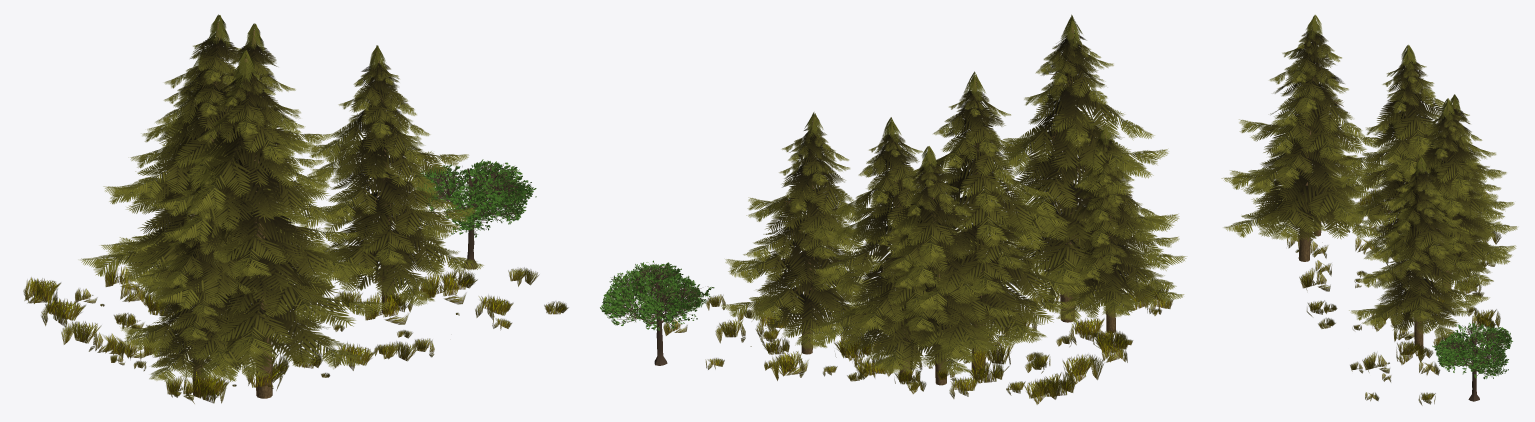
3 renders of one model, left to right at view 1: azimuth 30°, elevation 25°; view 2: azimuth 150°, elevation 25°; view 3: azimuth 270°, elevation 25°, orthographic. The views are drawn at different scales.
Parts seen in each view (by area): view 1: Low Poly Stylized 2D Grass.1245; view 2: Low Poly Stylized 2D Grass.1245; view 3: Low Poly Stylized 2D Grass.1245.
Boxes of the visible parts, x1,y1,x2,y2 form: Low Poly Stylized 2D Grass.1245: (23, 14, 568, 403); Low Poly Stylized 2D Grass.1245: (600, 14, 1186, 404); Low Poly Stylized 2D Grass.1245: (1221, 14, 1517, 405).
Bounding box in the file's own units: 22.41 × 15.98 × 16.24.
5 materials, 4 textured.
